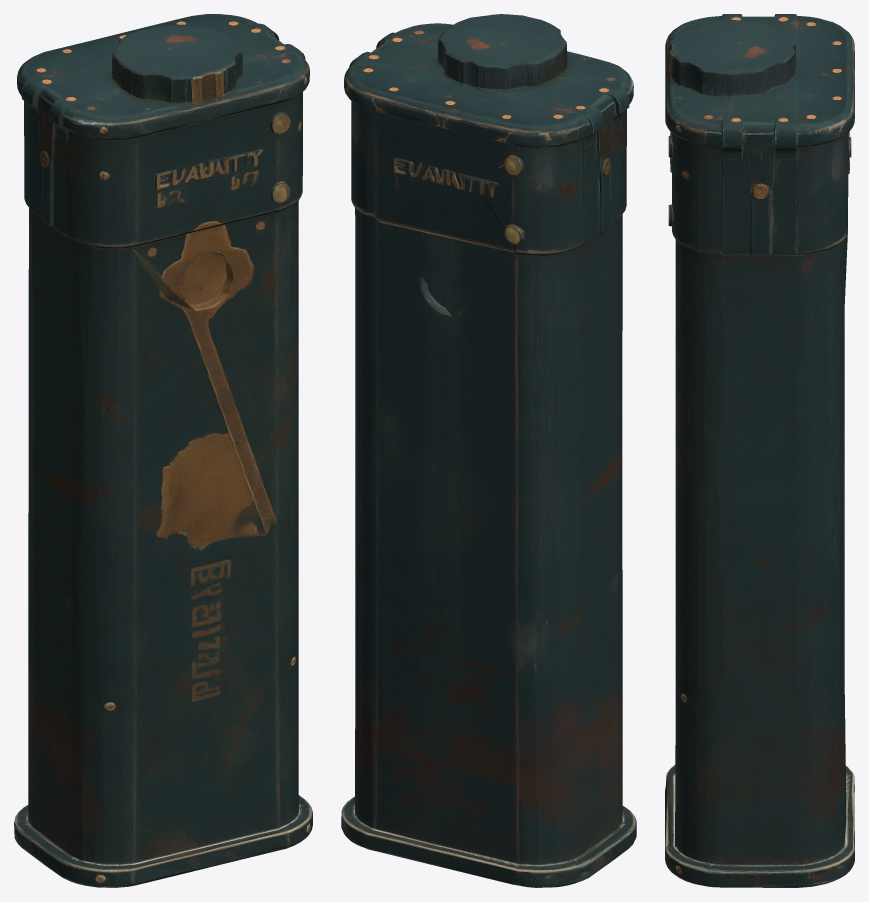
3 renders of one model, left to right at view 1: azimuth 30°, elevation 25°; view 2: azimuth 150°, elevation 25°; view 3: azimuth 270°, elevation 25°, orthographic.
Size of the model in its own units: 0.6194 by 1.9 by 0.4158.
1 material, 1 textured.
